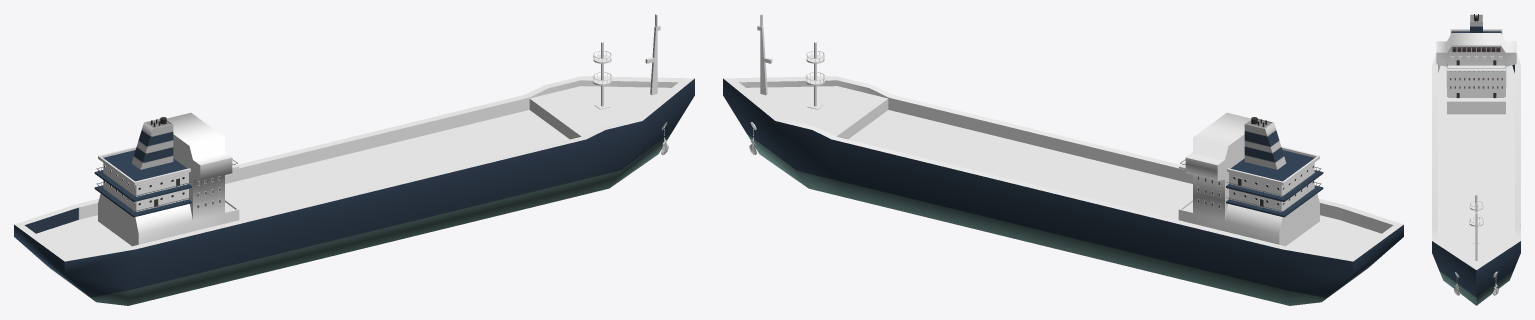
The picture shows the model from 3 angles, left to right: view 1: azimuth 30°, elevation 25°; view 2: azimuth 150°, elevation 25°; view 3: azimuth 270°, elevation 25°; orthographic projection. The views are drawn at different scales.
Visible parts, largest first — view 1: oil_tanker; view 2: oil_tanker; view 3: oil_tanker.
Part boxes in pixels (left/top/right/bottom): oil_tanker: left=14, top=14, right=694, bottom=305; oil_tanker: left=723, top=14, right=1403, bottom=305; oil_tanker: left=1432, top=14, right=1520, bottom=305.
Bounding box in the file's own units: 958 × 219 × 155.
1 material, 1 textured.
